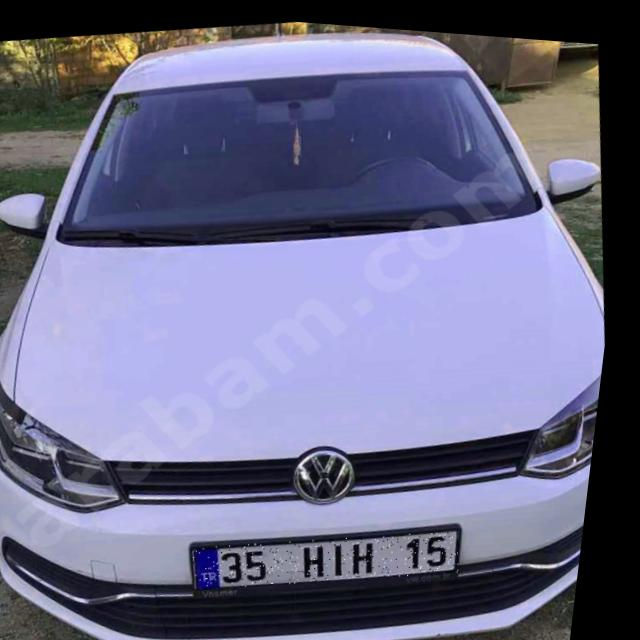license_plate: (201, 507, 477, 601)
